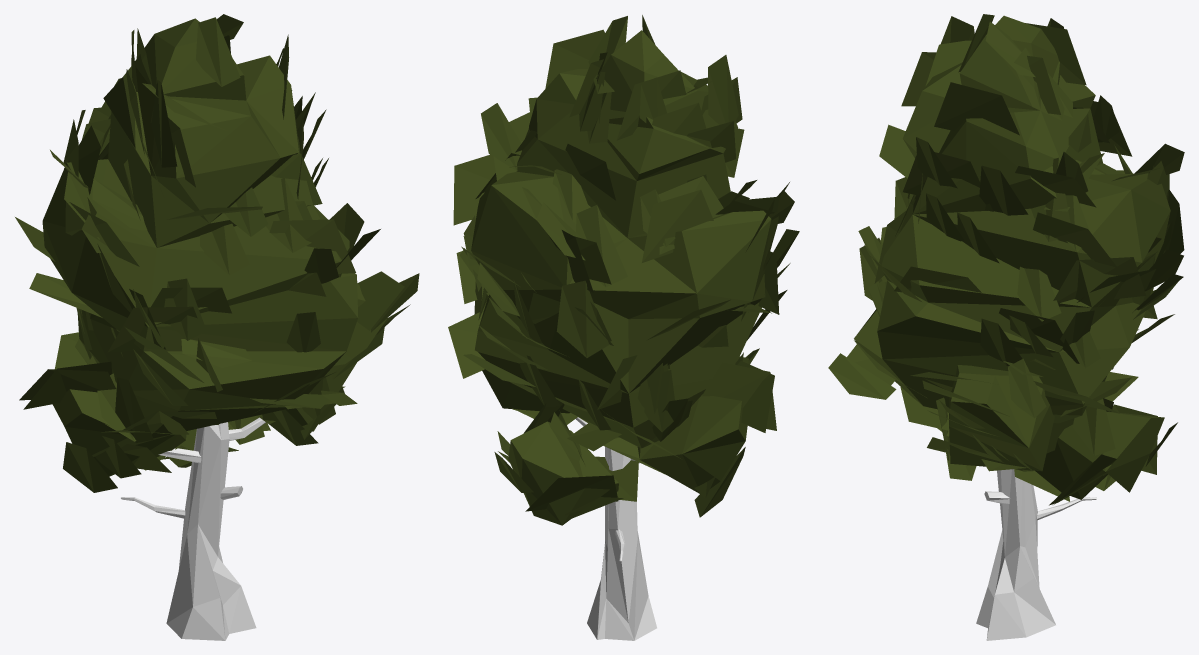
Rendered from SM_Tree_Juniper_Sapling_B.fbx.
3 renders of one model, left to right at view 1: azimuth 30°, elevation 25°; view 2: azimuth 150°, elevation 25°; view 3: azimuth 270°, elevation 25°, orthographic. The views are drawn at different scales.
Visible parts, largest first — view 1: tree-juniper-sapling-b; view 2: tree-juniper-sapling-b; view 3: tree-juniper-sapling-b.
Part boxes in pixels (x1,y1,x2,y2): tree-juniper-sapling-b: (15,14,419,640); tree-juniper-sapling-b: (448,15,799,640); tree-juniper-sapling-b: (828,14,1184,640).
Size of the model in its own units: 1.14 by 1.86 by 0.9897.
